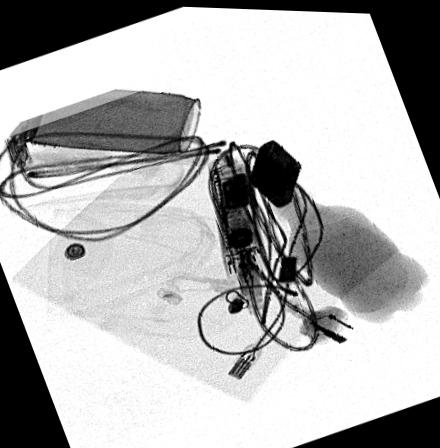Lighter: (248, 136, 301, 205)
